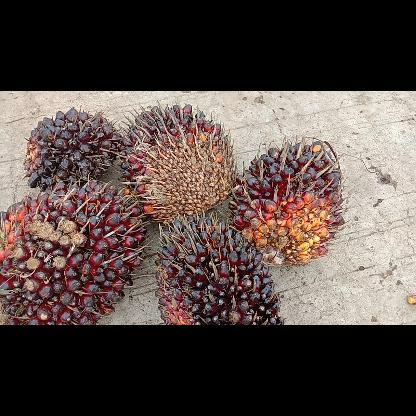TBS mentah: (0, 178, 150, 324), (228, 134, 346, 266), (154, 210, 283, 324), (121, 100, 238, 223), (22, 107, 122, 191)
